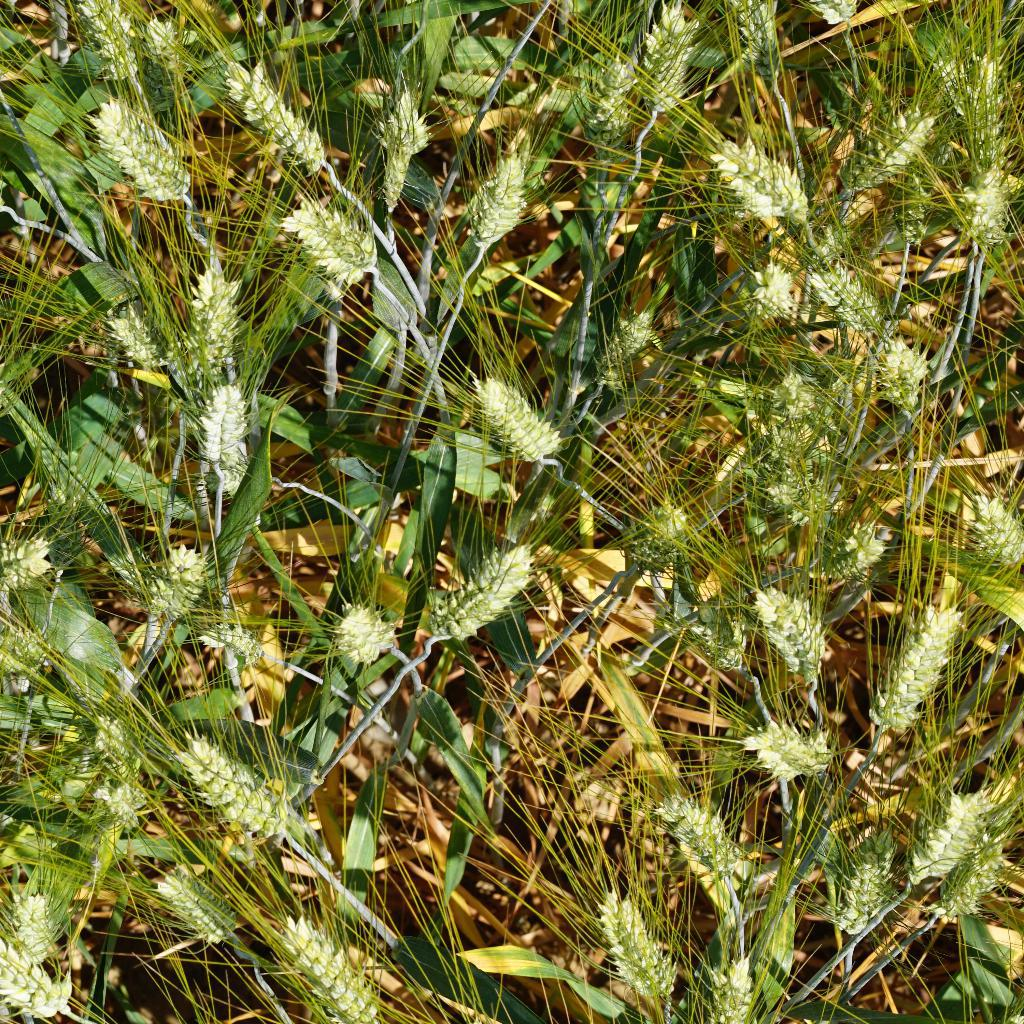0-0: (159, 730, 297, 849), (870, 596, 969, 751), (260, 907, 388, 1024), (219, 55, 334, 176), (425, 533, 544, 649), (82, 89, 191, 209), (914, 805, 1016, 929), (694, 126, 812, 230), (899, 783, 1003, 892), (836, 96, 940, 202), (595, 878, 677, 1003), (635, 790, 743, 884), (273, 192, 384, 283), (458, 370, 559, 466), (143, 856, 239, 951), (364, 91, 436, 217), (637, 0, 707, 125), (748, 580, 827, 689), (45, 0, 140, 89), (578, 47, 642, 177), (0, 915, 76, 1021), (185, 260, 247, 382), (841, 817, 898, 945), (801, 253, 887, 336), (473, 143, 532, 261), (949, 484, 1024, 576), (145, 542, 225, 626), (723, 720, 833, 778), (592, 303, 657, 400), (0, 883, 63, 981), (322, 595, 399, 669), (618, 500, 691, 577), (953, 155, 1011, 249), (718, 0, 782, 84), (36, 477, 88, 580), (685, 590, 749, 673), (100, 305, 177, 371), (188, 381, 247, 467), (874, 326, 928, 417), (139, 17, 186, 118), (694, 948, 755, 1024), (810, 516, 894, 571), (747, 418, 806, 495), (763, 468, 832, 533), (886, 169, 936, 249), (766, 360, 823, 427), (79, 707, 142, 765), (0, 614, 59, 674), (746, 255, 795, 326), (0, 537, 61, 594), (200, 460, 279, 503), (89, 776, 154, 827), (195, 620, 272, 663), (790, 0, 858, 32), (535, 0, 637, 15), (974, 996, 1024, 1024), (448, 1011, 535, 1024)
